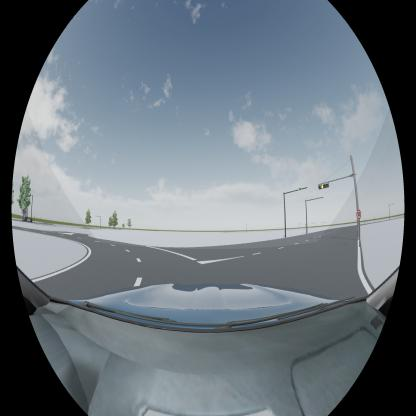Green Light: (297, 188, 302, 191)
Speed Limit 100: (356, 209, 361, 220)
